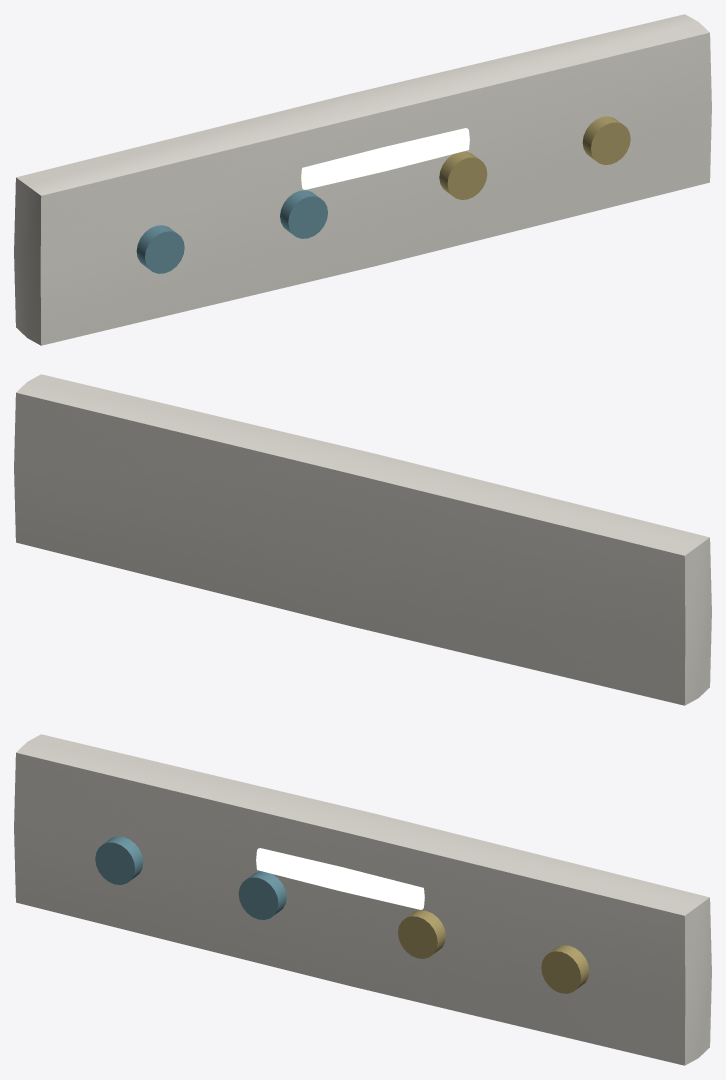
Rendered from bed-head-unit.glb.
3 renders of one model, top to bottom at view 1: azimuth 30°, elevation 25°; view 2: azimuth 150°, elevation 25°; view 3: azimuth 330°, elevation 25°, orthographic.
Parts seen in each view (by area): view 1: bed-head-unit; view 2: bed-head-unit; view 3: bed-head-unit.
Part boxes in pixels (x1,y1,x2,y2): bed-head-unit: (14,14,711,345); bed-head-unit: (14,374,711,705); bed-head-unit: (14,734,711,1065).
Size of the model in its own units: 0.85 by 0.19 by 0.0875.
Materials: 6 (6 with a texture image).
